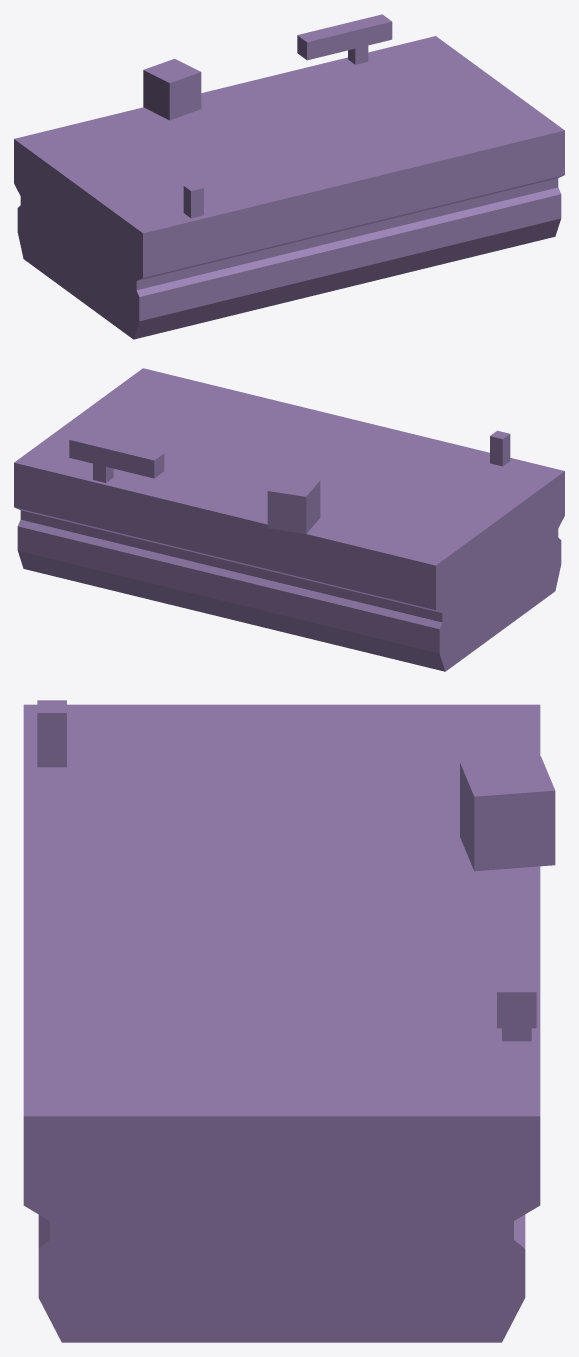
Rendered from SM_Platform_small.fbx.
3 renders of one model, top to bottom at view 1: azimuth 30°, elevation 25°; view 2: azimuth 150°, elevation 25°; view 3: azimuth 270°, elevation 25°, orthographic. The views are drawn at different scales.
Parts seen in each view (by area): view 1: Platform_small; view 2: Platform_small; view 3: Platform_small.
Boxes of the visible parts, left/top/right/bottom form: Platform_small: left=14, top=14, right=564, bottom=339; Platform_small: left=14, top=368, right=564, bottom=671; Platform_small: left=23, top=700, right=555, bottom=1342.
Size of the model in its own units: 1129 by 385 by 616.
